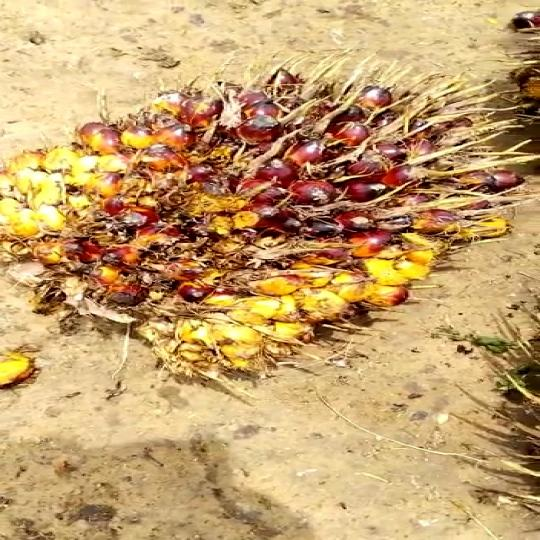masak: (0, 62, 503, 406)
